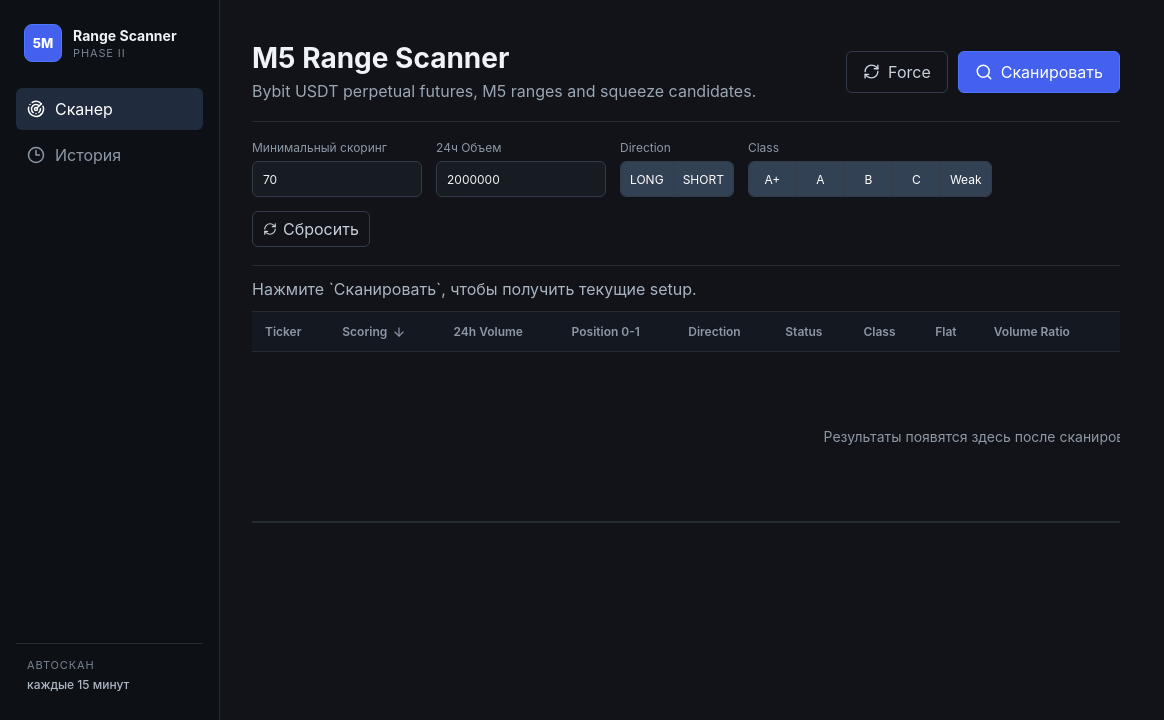
Scenario: App › filters direction and class locally without another scan
Click the button "Сканировать".
click(1039, 72)  # box [958,51,1120,93]
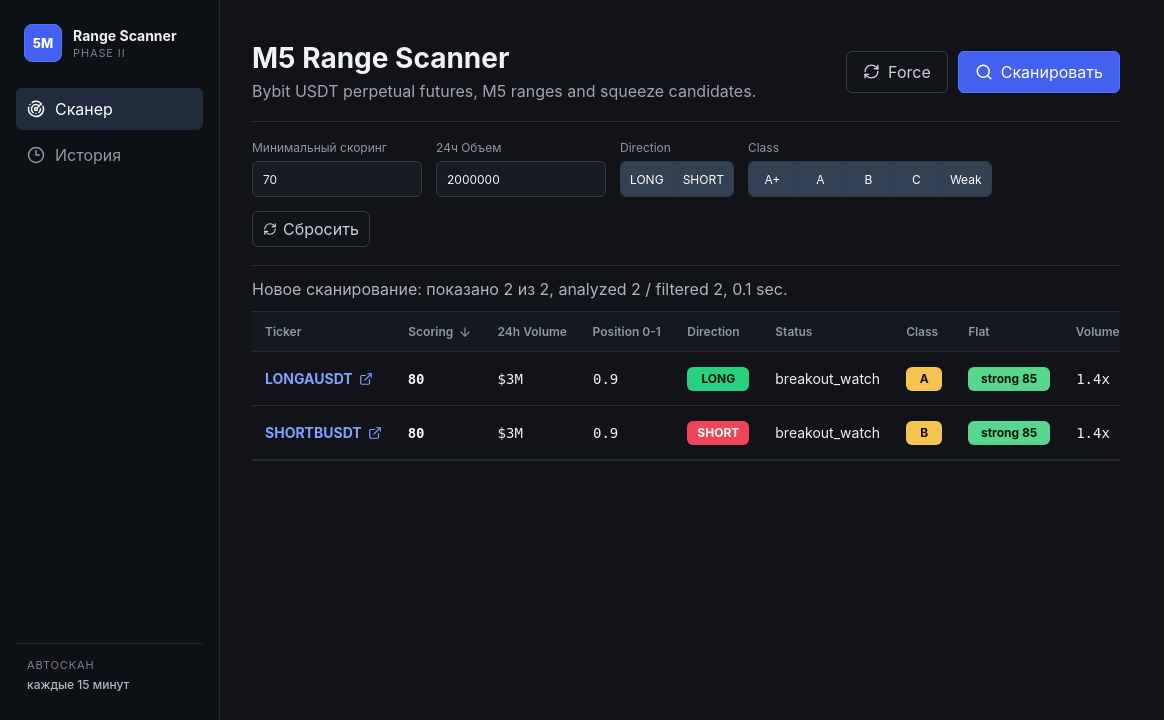
Expected: the link "LONGAUSDT" is shown, [265,370,373,387]
Click the button "LONG".
click(647, 179)  # box [621,162,674,196]
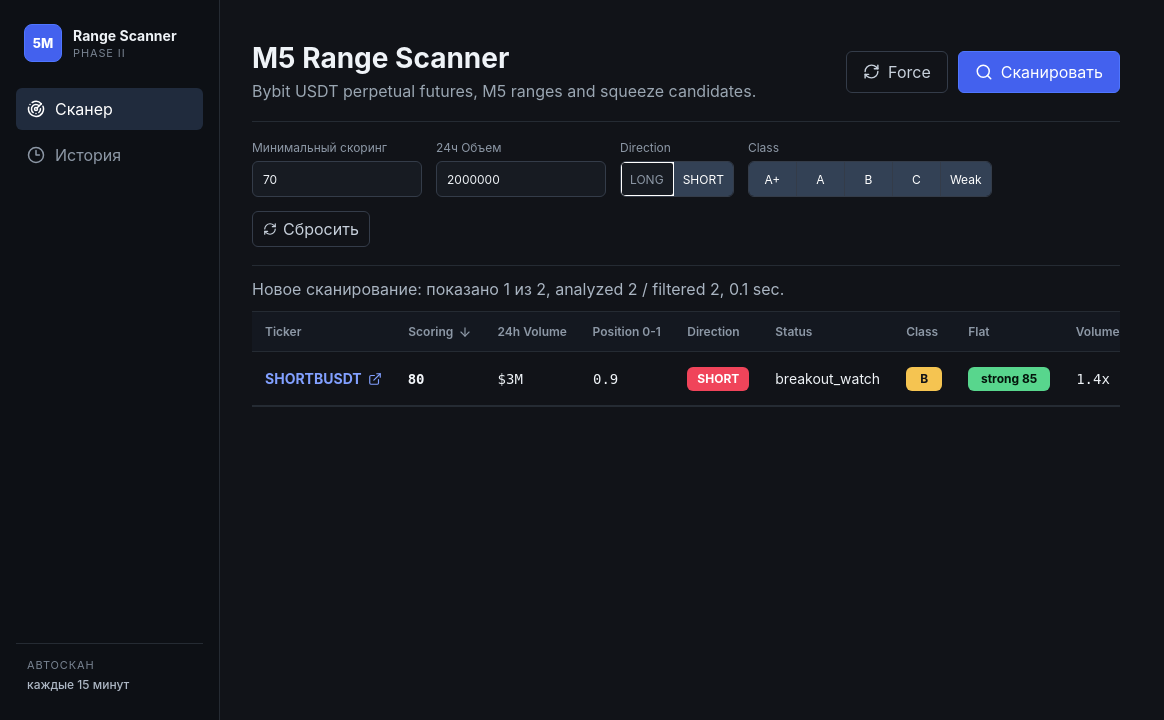
Expected: the link "SHORTBUSDT" is shown, [265,370,382,387]
Expected: the link "LONGAUSDT" is gone
Click the button "Сбросить".
click(311, 229)  # box [252,211,370,247]
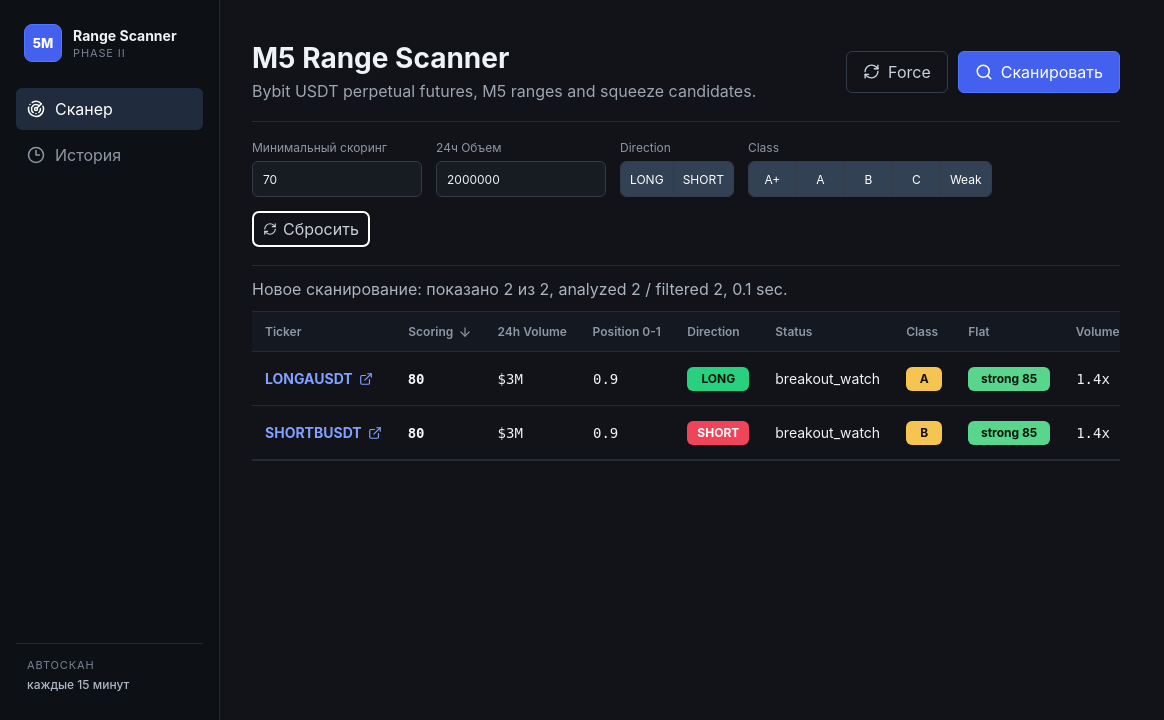
Expected: the link "LONGAUSDT" is shown, [265,370,373,387]
Click the button "B".
click(869, 179)  # box [845,162,893,196]
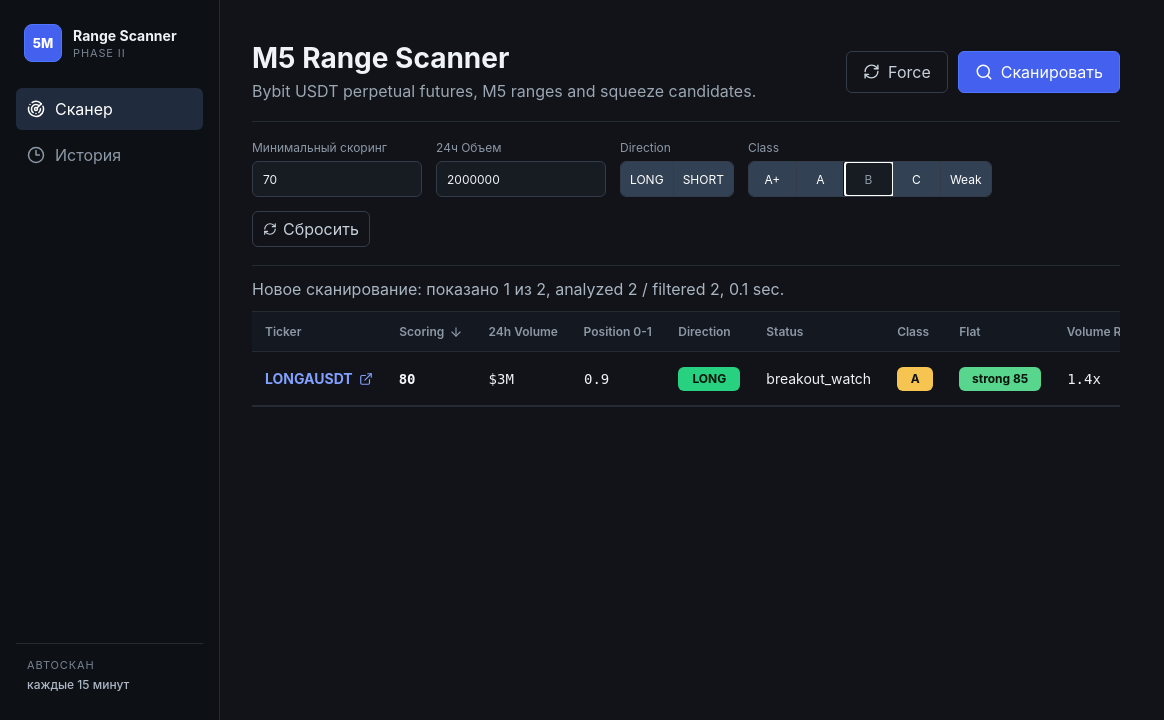
Expected: the link "LONGAUSDT" is shown, [265,370,373,387]
Expected: the link "SHORTBUSDT" is gone
